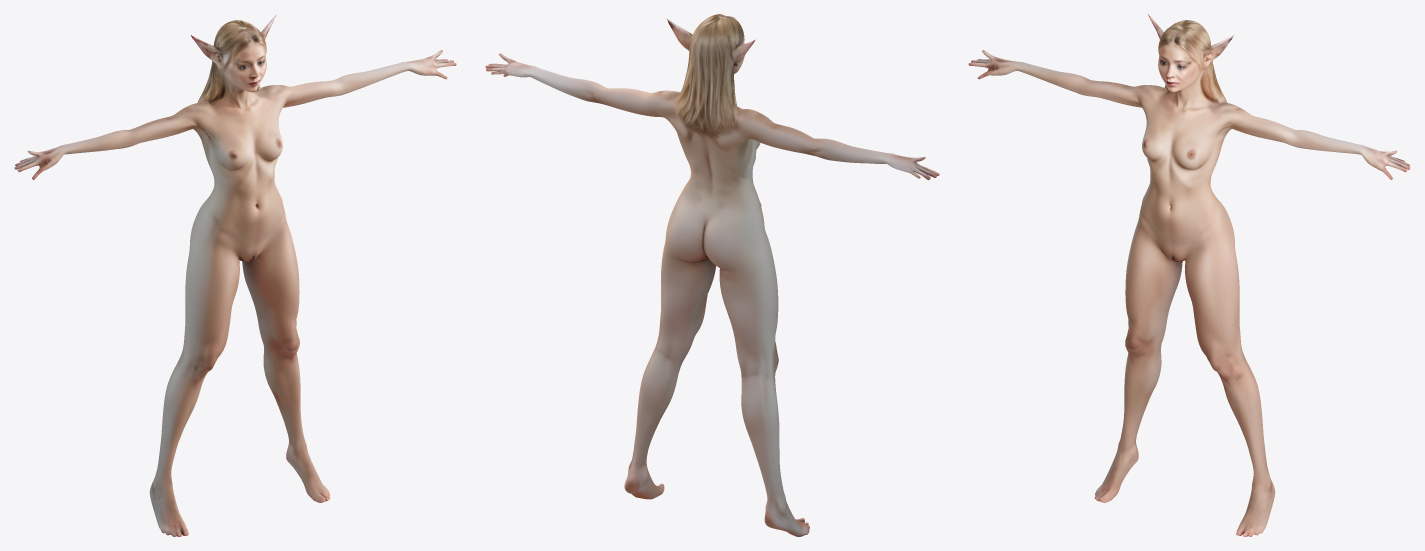
File: base_basic_shaded.fbx
The picture shows the model from 3 angles, left to right: view 1: azimuth 30°, elevation 25°; view 2: azimuth 150°, elevation 25°; view 3: azimuth 330°, elevation 25°; orthographic projection. The views are drawn at different scales.
Visible parts, largest first — view 1: model; view 2: model; view 3: model.
Part boxes in pixels (x1,y1,x2,y2): model: (14, 14, 456, 536); model: (485, 14, 939, 536); model: (968, 14, 1410, 536).
Bounding box in the file's own units: 162 × 172 × 23.18.
